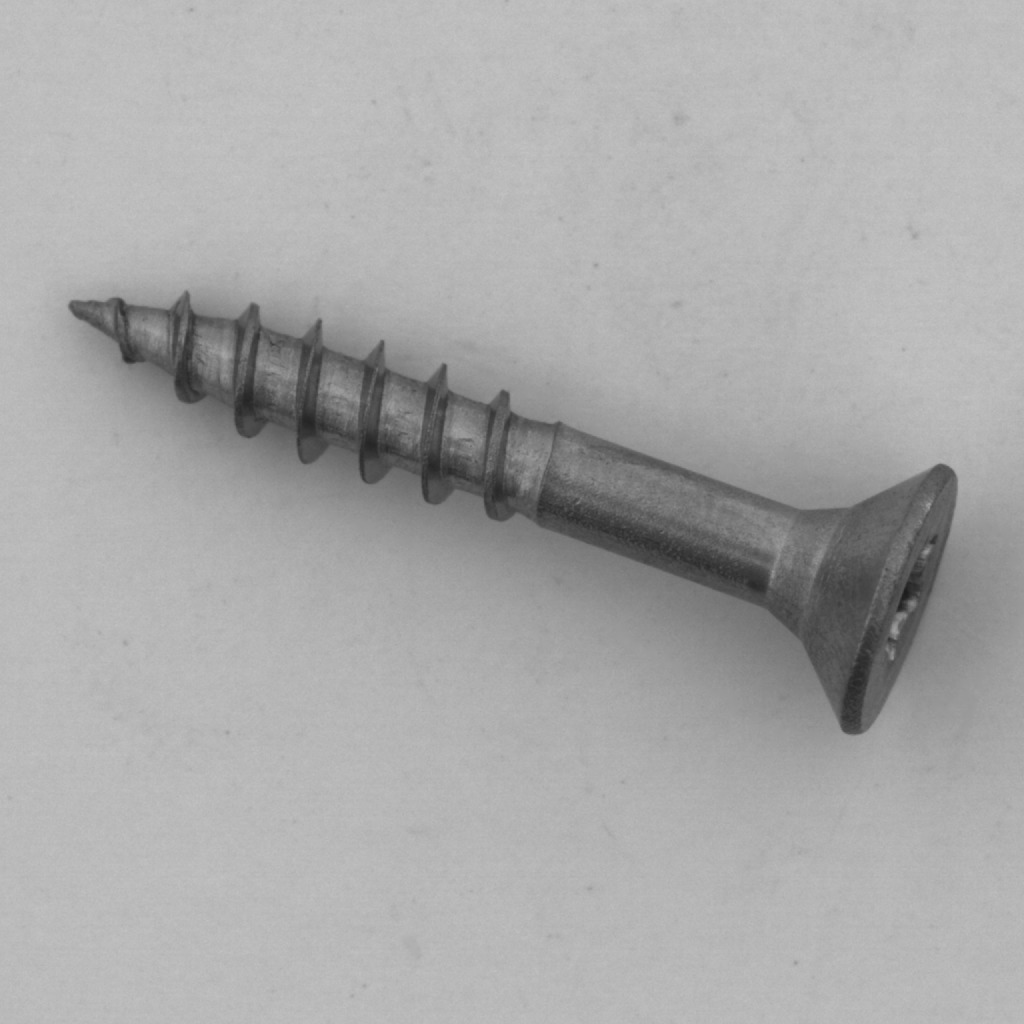good: (49, 273, 973, 760)
